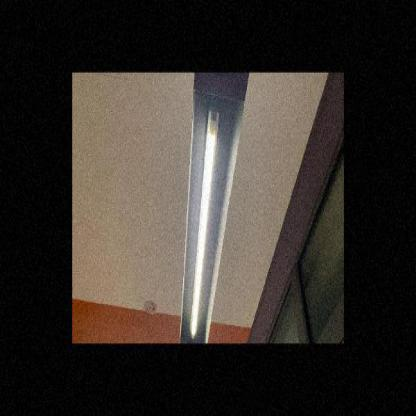light_on: (185, 102, 220, 344)
